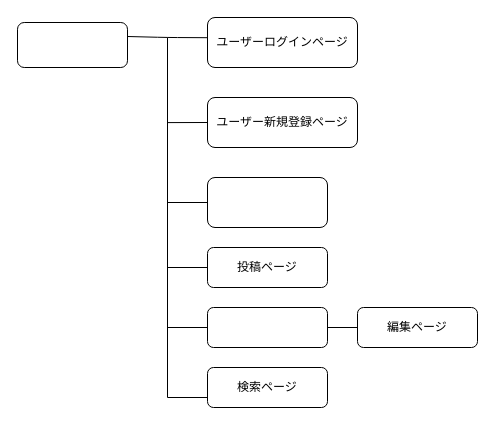
The diagram is 495 pixels wide and 425 high, and some of its shapes have lost their labels. The shapes that lost their labels are listed below. From the top down, each one's box as (x1, y1, x2, y2) in pixels, then its label:
(16, 22, 128, 68): 一覧ページ
(206, 176, 328, 228): ユーザーマイページ
(206, 306, 328, 348): 詳細ページ
